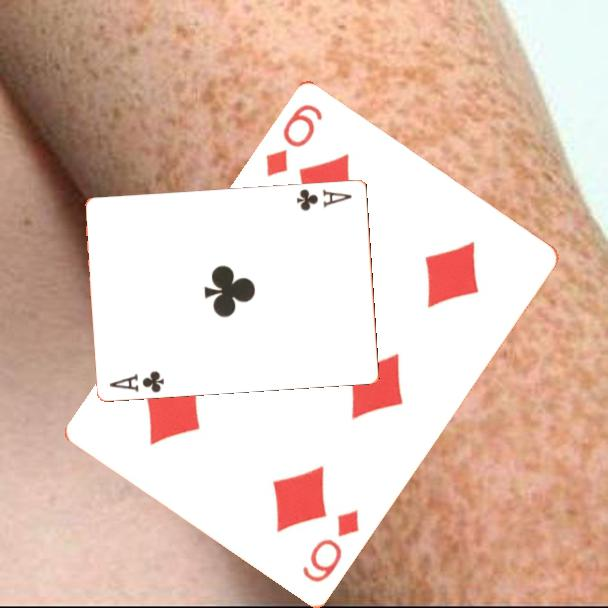c01: (293, 185, 355, 213), (106, 367, 167, 395)
d06: (262, 99, 326, 179), (298, 505, 362, 585)
